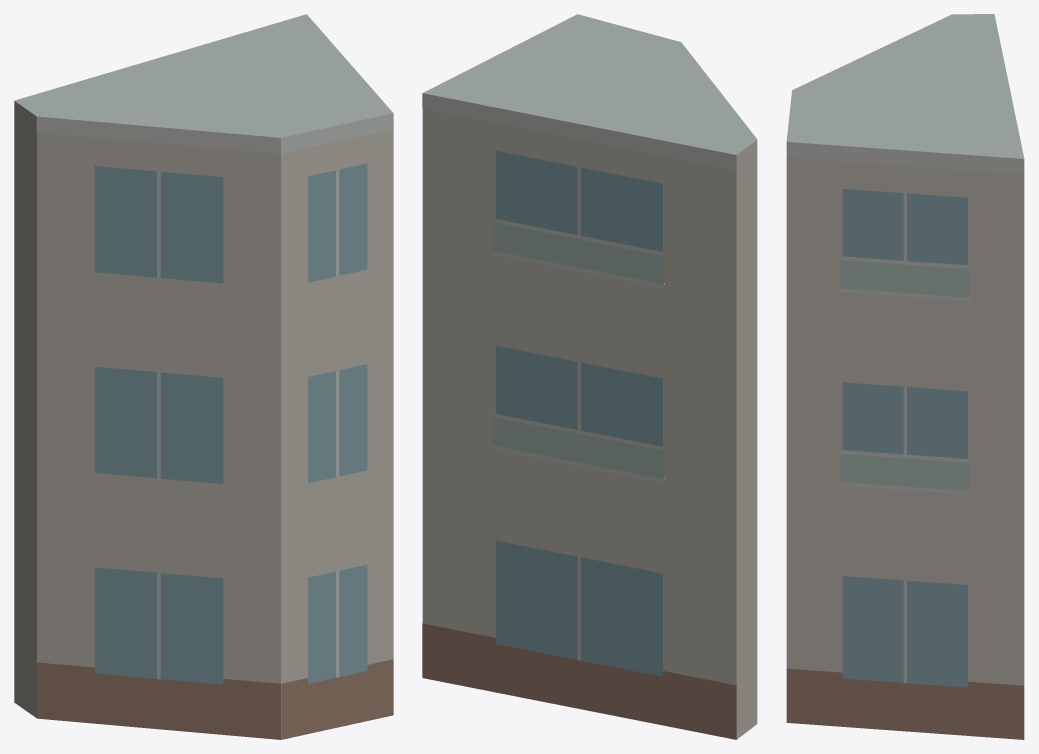
Rendered from survey-upis-32467469.glb.
3 renders of one model, left to right at view 1: azimuth 30°, elevation 25°; view 2: azimuth 150°, elevation 25°; view 3: azimuth 270°, elevation 25°, orthographic. The views are drawn at different scales.
Visible parts, largest first — view 1: survey-upis-32467469.tmp; view 2: survey-upis-32467469.tmp; view 3: survey-upis-32467469.tmp.
Part boxes in pixels (x1,y1,x2,y2): survey-upis-32467469.tmp: [14, 14, 393, 739]; survey-upis-32467469.tmp: [422, 14, 757, 739]; survey-upis-32467469.tmp: [786, 14, 1024, 739].
Bounding box in the file's own units: 4.91 × 9.15 × 3.41.
